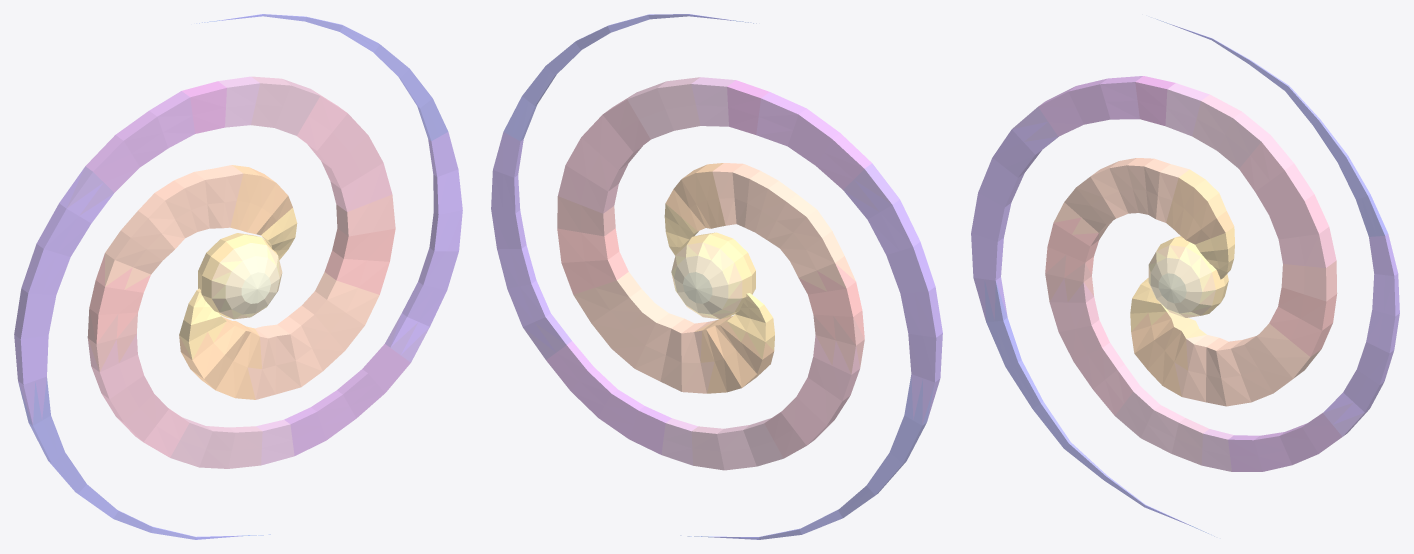
File: galaxy-007.glb
3 renders of one model, left to right at view 1: azimuth 30°, elevation 25°; view 2: azimuth 150°, elevation 25°; view 3: azimuth 330°, elevation 25°, orthographic. The views are drawn at different scales.
Visible parts, largest first — view 1: galaxy-007; view 2: galaxy-007; view 3: galaxy-007.
Boxes of the visible parts, x1,y1,x2,y2 form: galaxy-007: [14, 14, 462, 539]; galaxy-007: [491, 14, 942, 539]; galaxy-007: [971, 17, 1399, 536].
Bounding box in the file's own units: 154 × 176 × 21.38.
